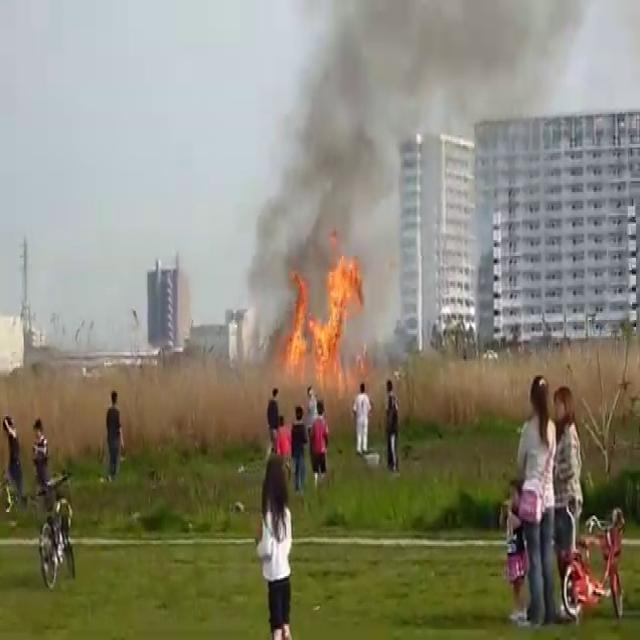Fire: (278, 245, 368, 382)
Smoke: (244, 0, 532, 329)
